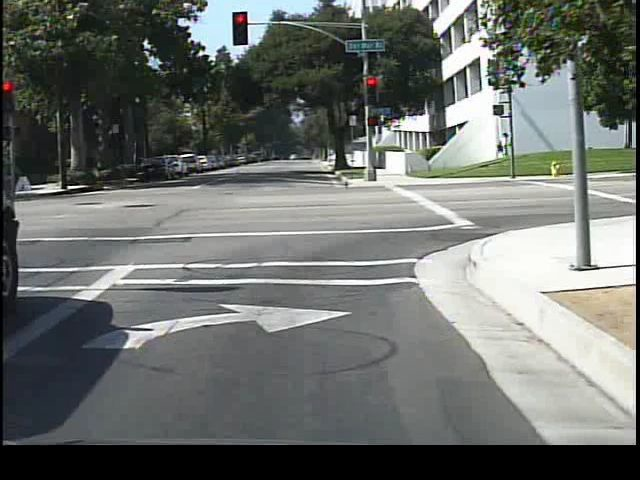person: (489, 128, 513, 174)
